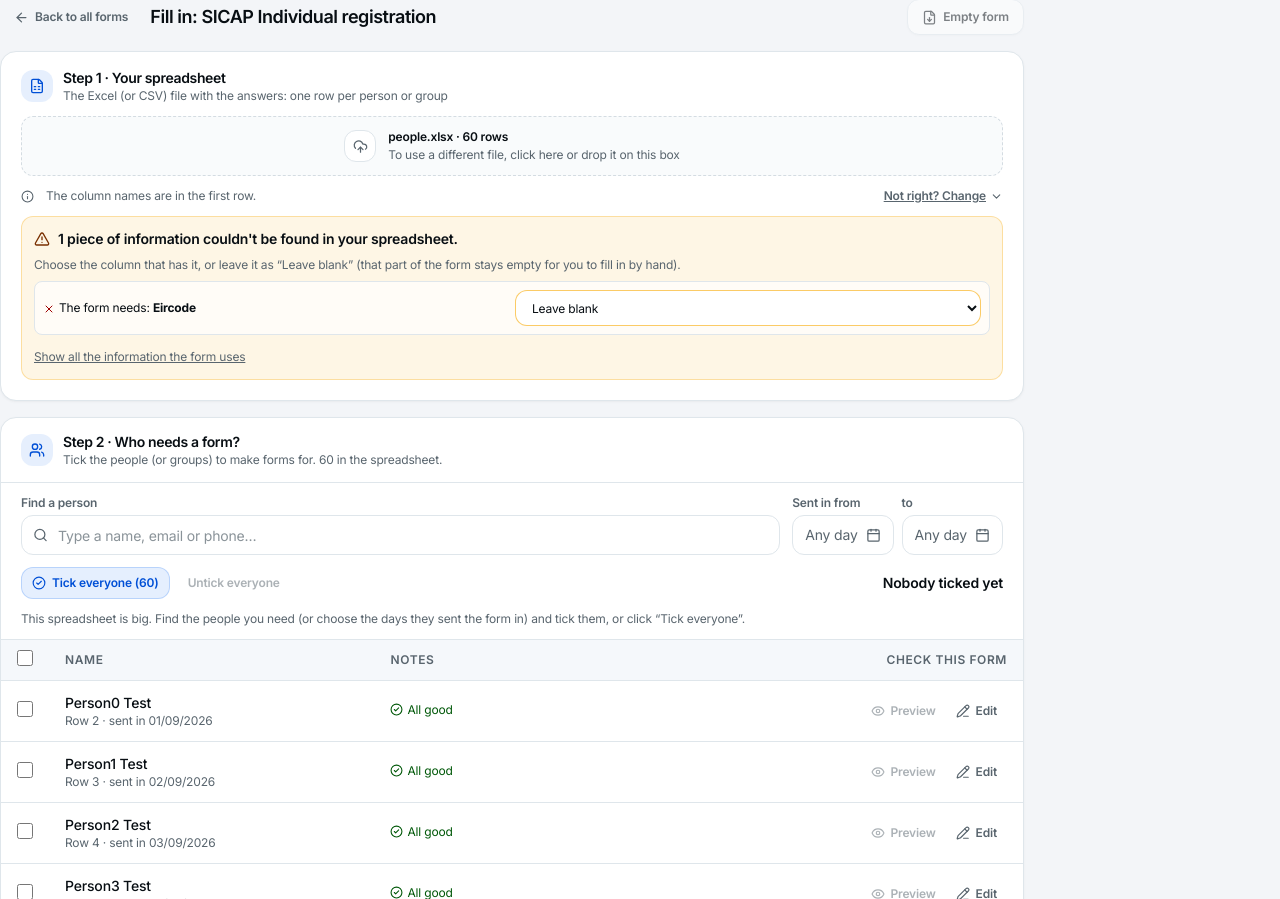
Scenario: FillView › starts a big file with nobody ticked and offers the registration dates
The image size is (1280, 899).
Expected: the text "Nobody ticked yet" is shown, left=883, top=573, right=1003, bottom=593
Expected: the text "Sent in from" is shown, left=792, top=495, right=860, bottom=510
Click the button "Tick everyone (60)": (95, 583) left=21, top=567, right=170, bottom=599
(page scrolled)
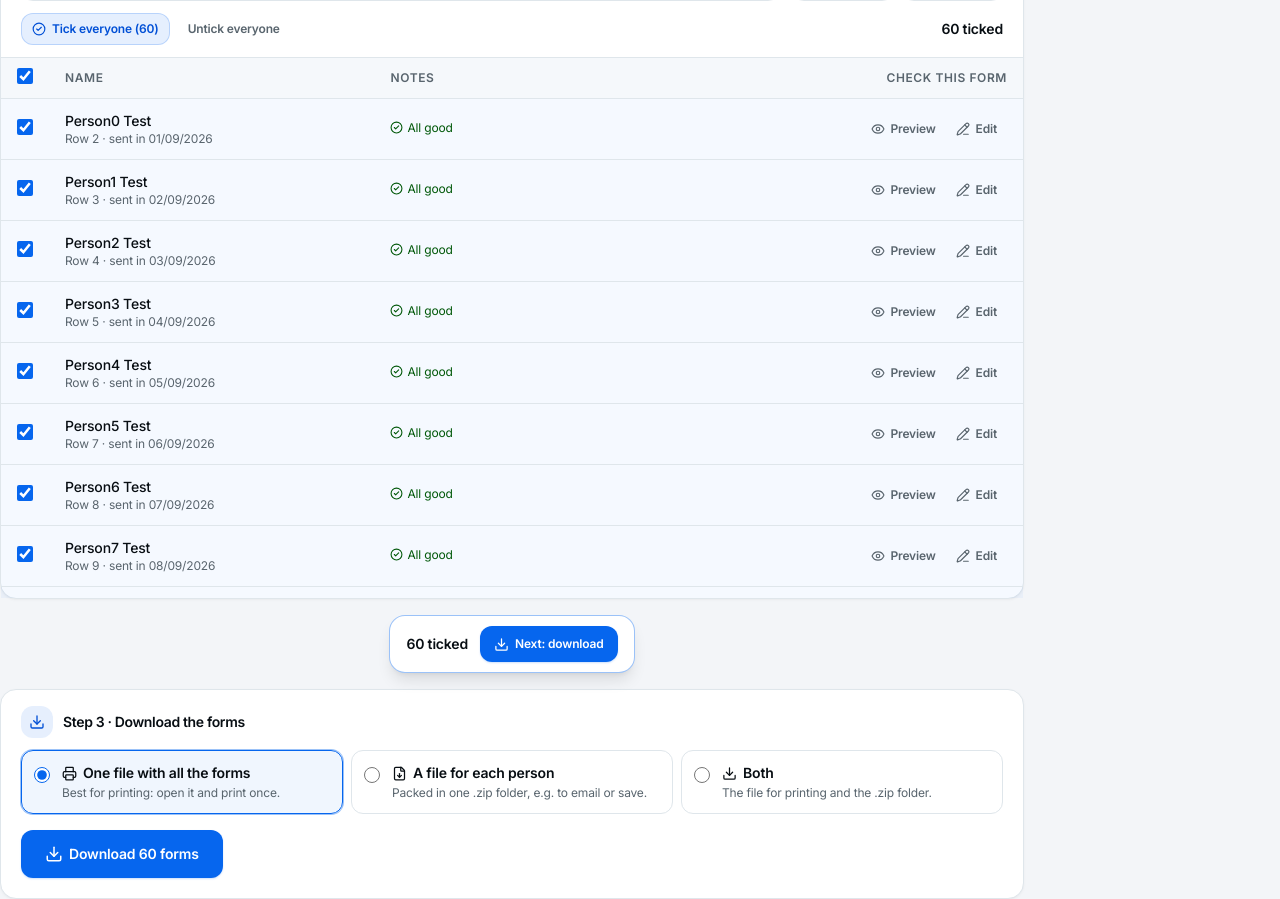
Expected: the button "Download 60 forms" is shown, left=21, top=830, right=223, bottom=878
